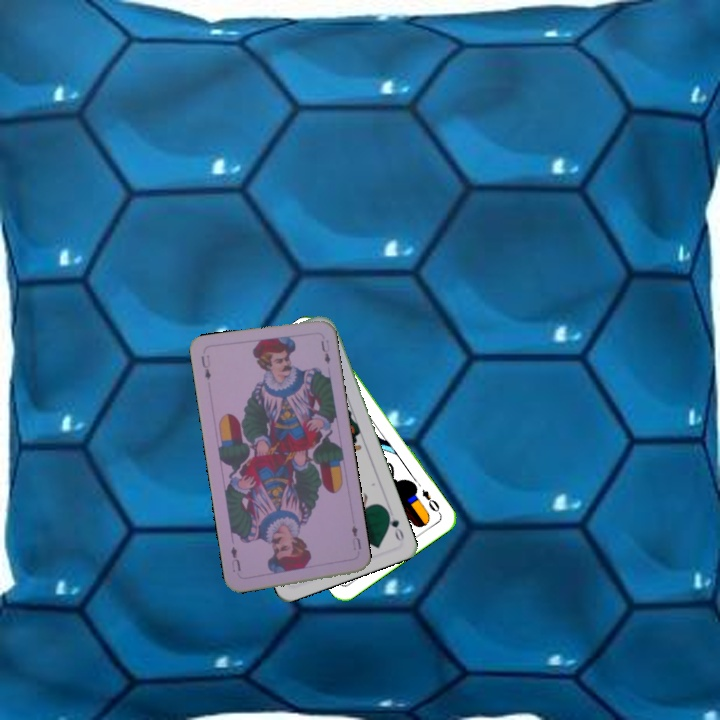EO: (418, 485, 444, 517)
EU: (197, 352, 214, 382), (348, 521, 364, 552)
GO: (382, 506, 407, 544)
